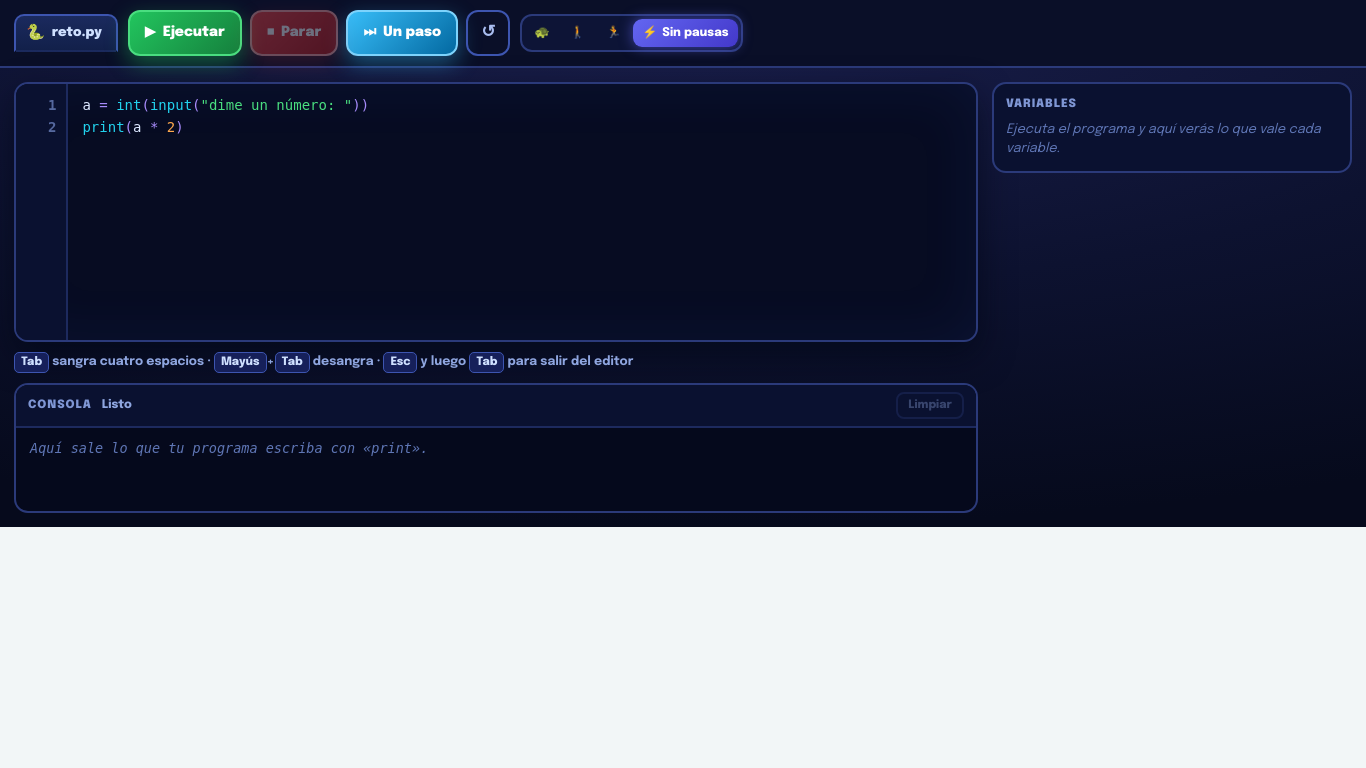
ejecutar de verdad › con las entradas ya preparadas por la clase, no pregunta nada y el programa corre entero
Click the button with test id "cod-ejecutar" at (185, 33), box [128,10,242,56]
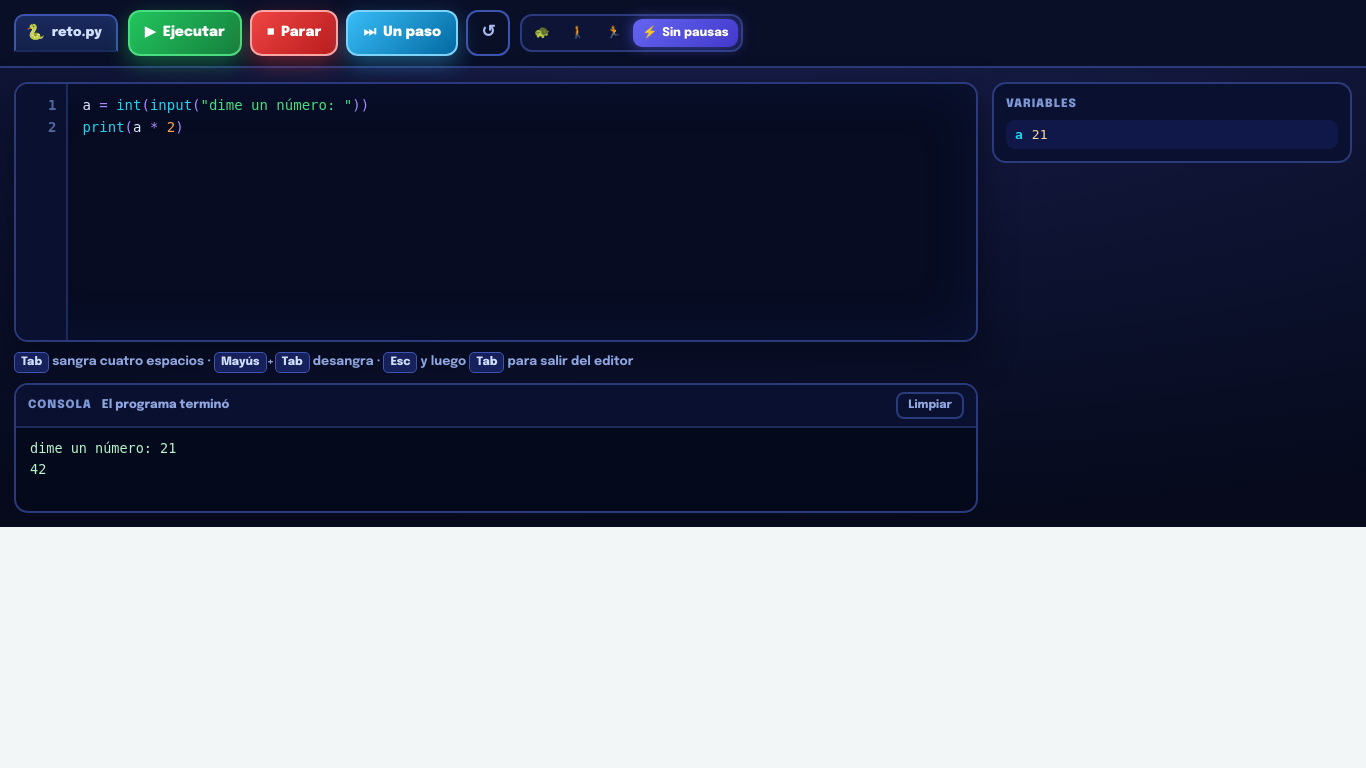
Expected: the element with test id "cod-salida" shows "42", [30,461,46,477]
